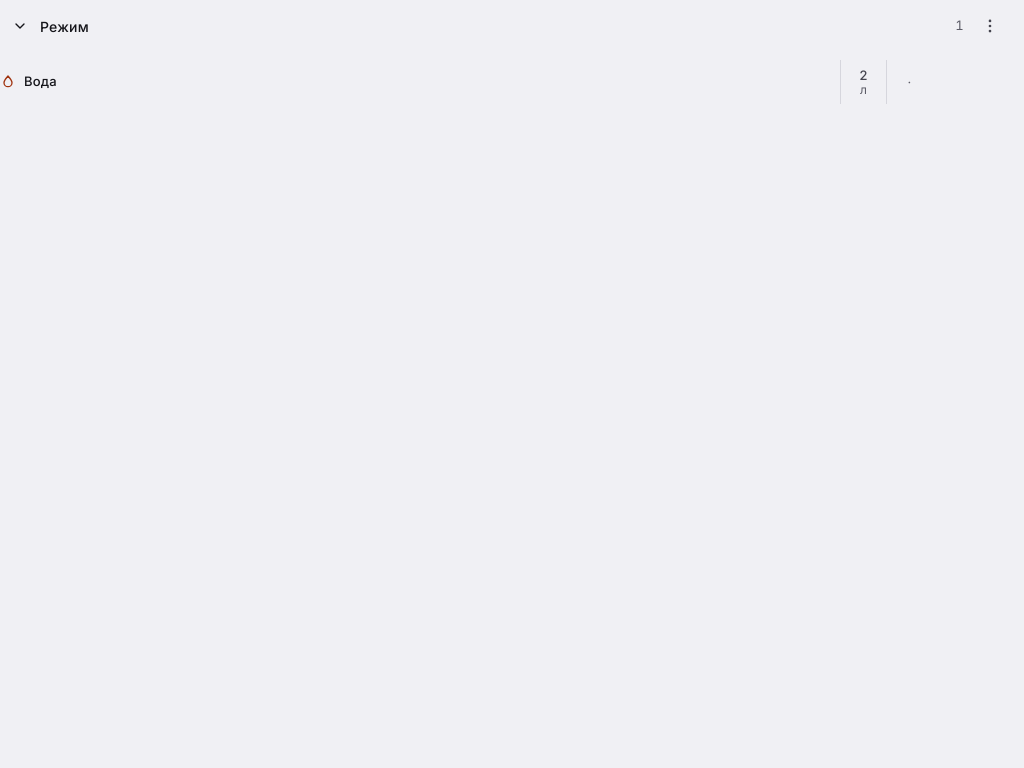
Test: меню групи › дії відкривають картку з усіма пунктами
This screenshot has width=1024, height=768.
Click the button named "Дії групи Режим" at [990, 26], box top-left (968, 4), bottom-right (1012, 48)
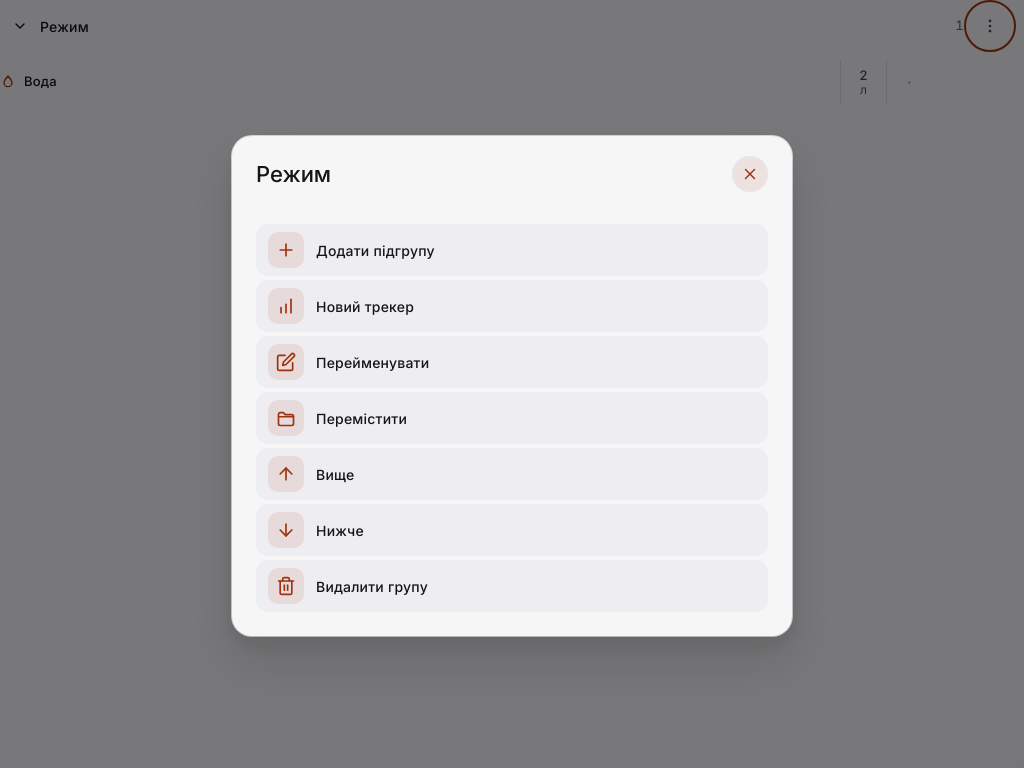
Check: the button "Додати підгрупу" is shown, box top-left (256, 224), bottom-right (768, 276)
Check: the button "Новий трекер" is shown, box top-left (256, 280), bottom-right (768, 332)
Check: the button "Перейменувати" is shown, box top-left (256, 336), bottom-right (768, 388)
